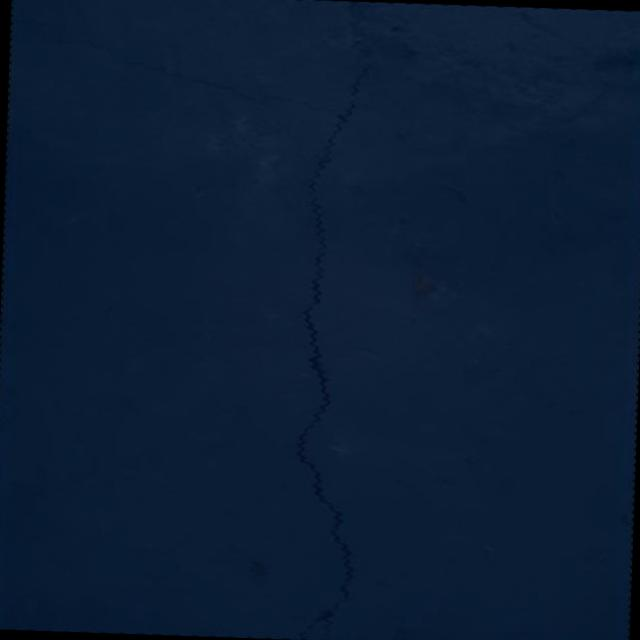crack: (292, 0, 375, 583), (35, 37, 338, 113), (299, 581, 353, 640), (358, 8, 392, 28), (10, 18, 50, 27)
